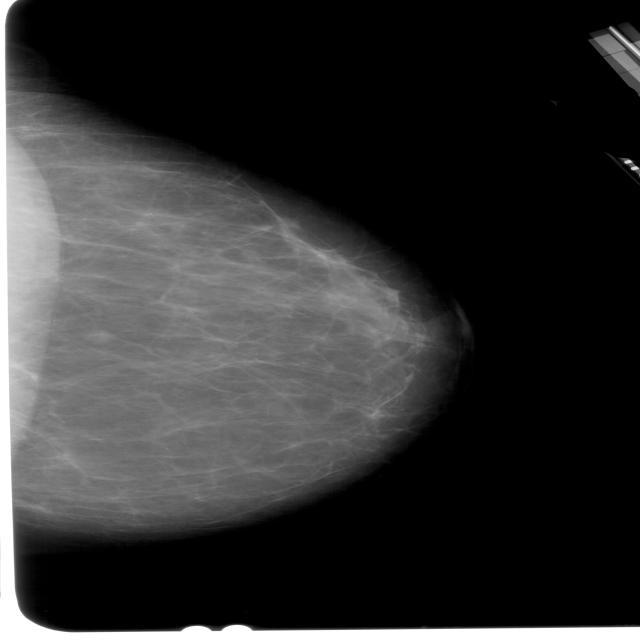normal: (0, 81, 469, 551)
